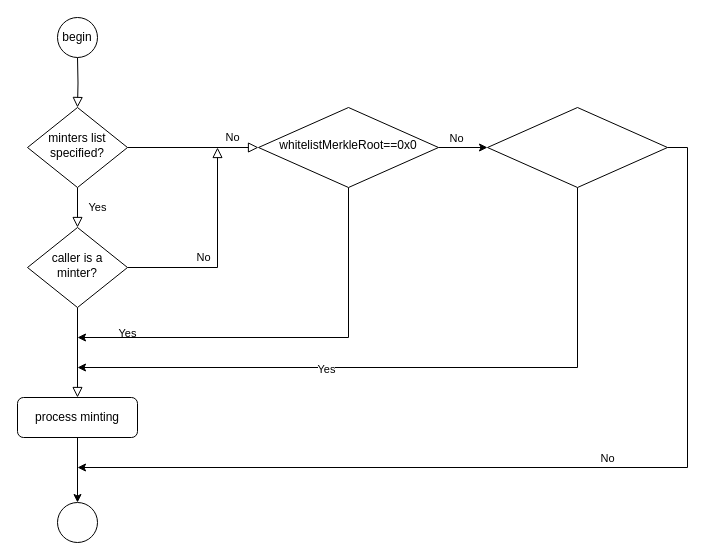
Image size: 713x560. Some labels were removed from this diagram. Each missing label, with the centre of its shape:
"end" goes at pixel 77 522.
"is caller in whitelist?" goes at pixel 577 147.
